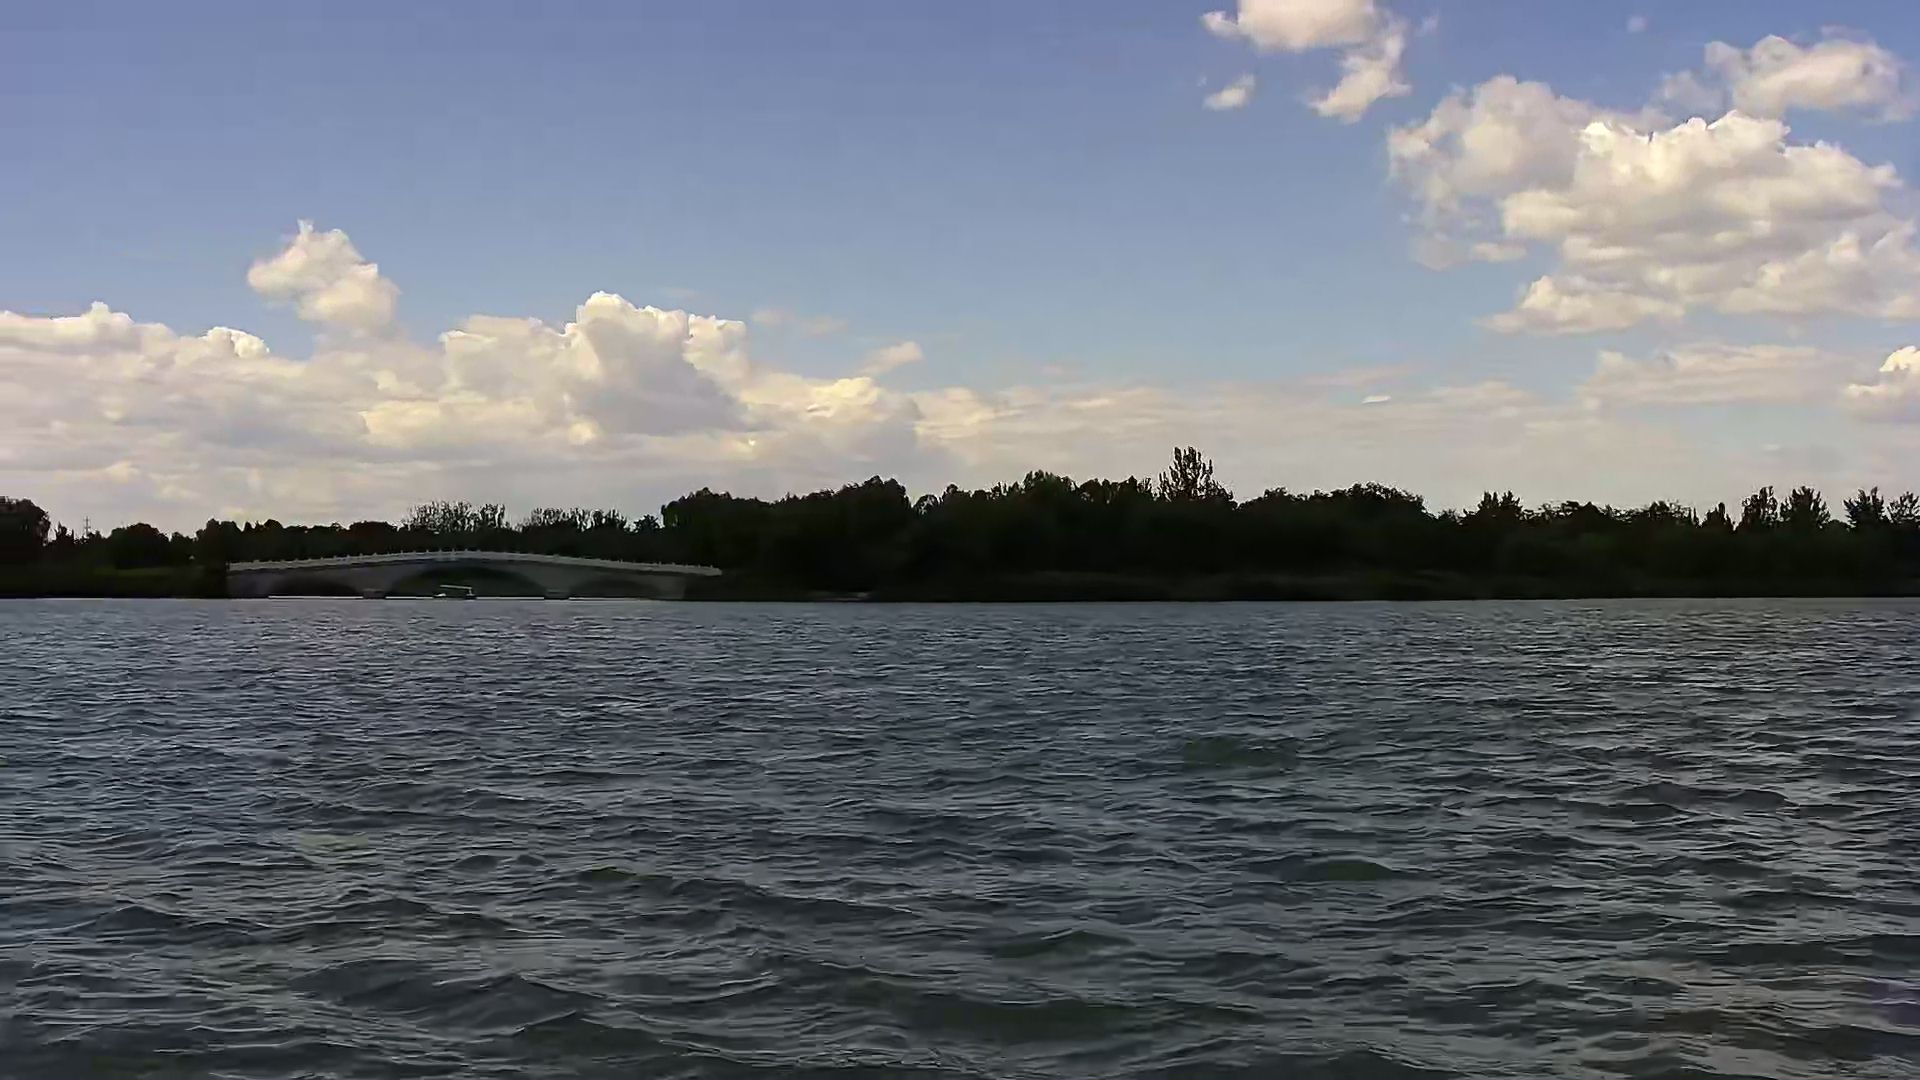bridge: (225, 542, 728, 612)
